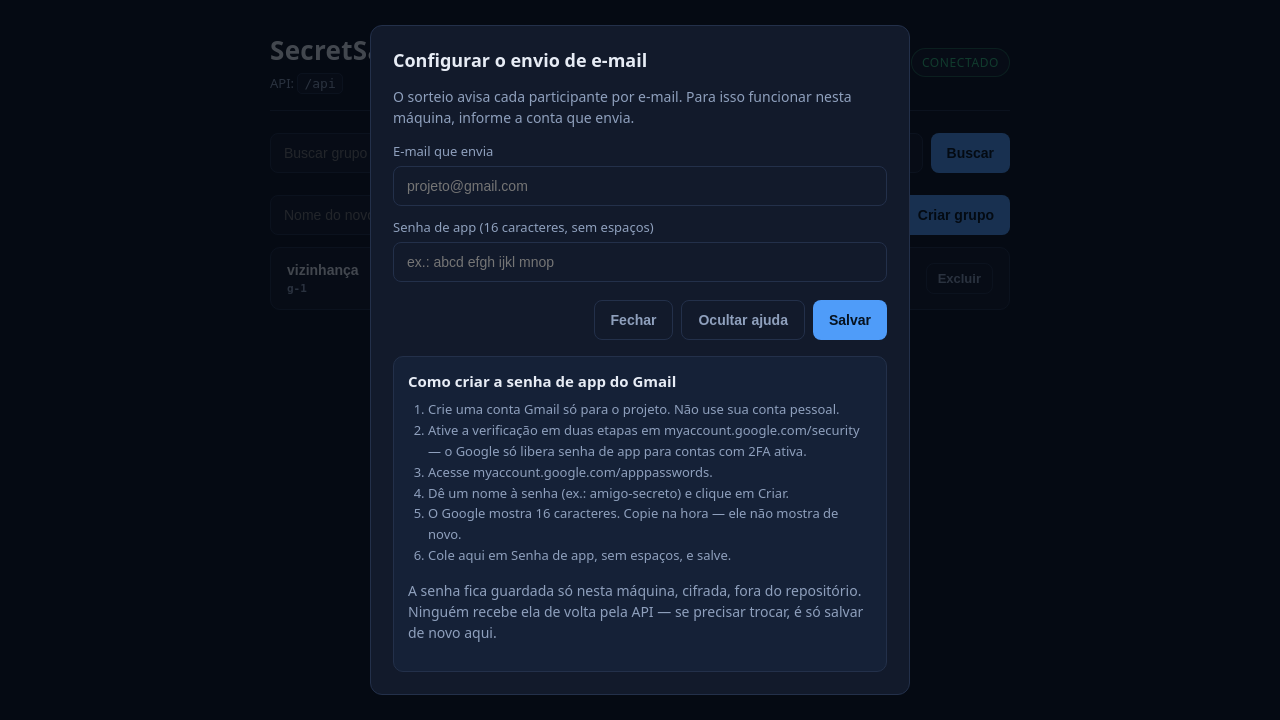
configuracao do envio de e-mail › avisa na primeira execucao sem e-mail configurado e nao insiste depois de fechar
This screenshot has width=1280, height=720.
Expected: the heading "Configurar o envio de e-mail" is shown, [393,48,647,72]
Step 1. Click the button "Fechar" → (634, 320), box [594,300,674,340]
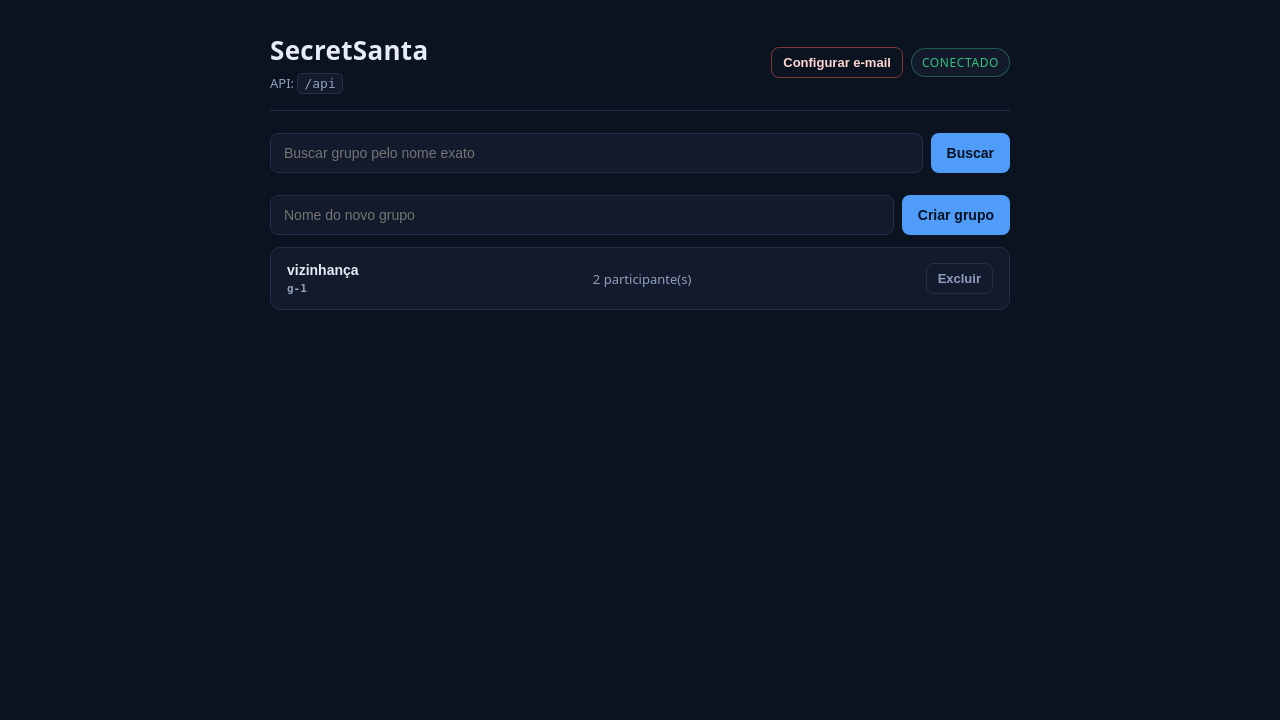
Result: the heading "Configurar o envio de e-mail" is gone
